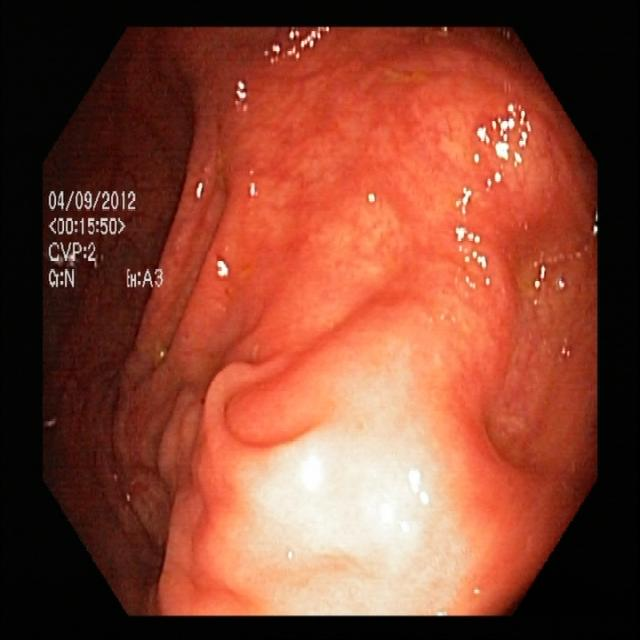ulcerative-colities: (41, 335, 180, 613)
